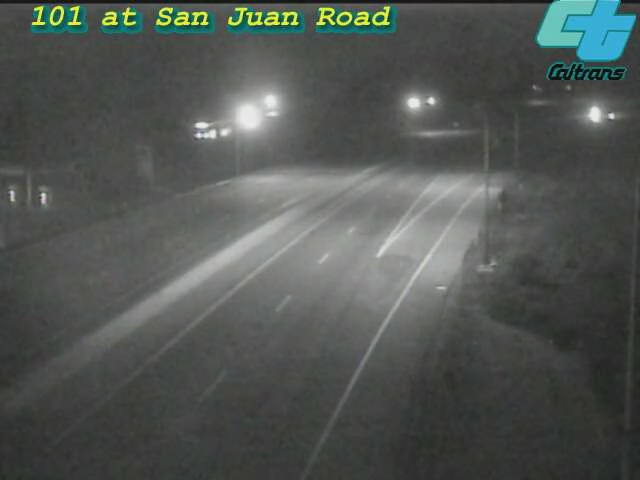vehicle: (570, 90, 620, 140)
